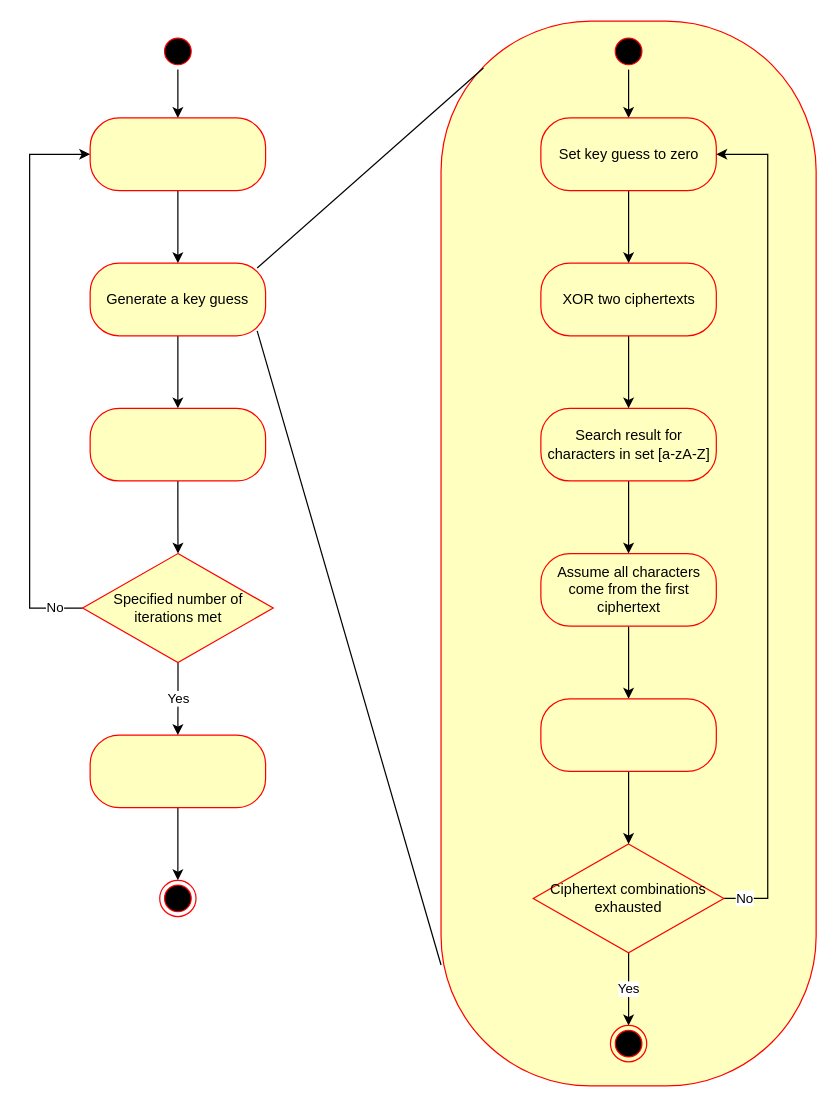
The diagram is 837 pixels wide and 1107 high, and some of its shapes have lost their labels. The shapes that lost their labels are listed below. From the top down, each one's centre as x and y in pixels, then its label:
At (177,154): "Pick a random subset of available ciphertexts".
At (177,444): "Use the key guess on the target ciphertext to get a message guess".
At (628,734): "Calculate key guess bytes for each alphabetic character".
At (177,771): "Combine message guesses by keeping the most common characters".
